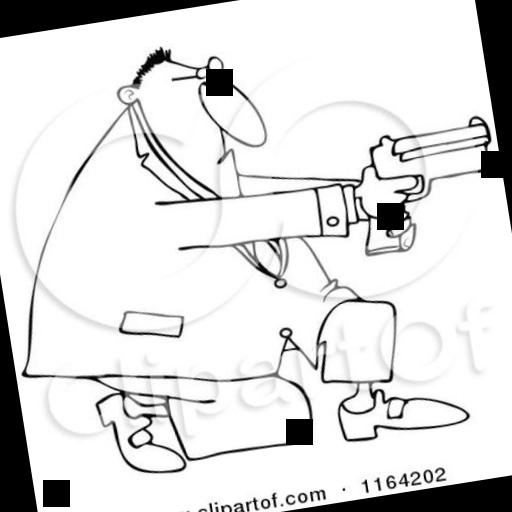Handgun: (336, 114, 504, 256)
